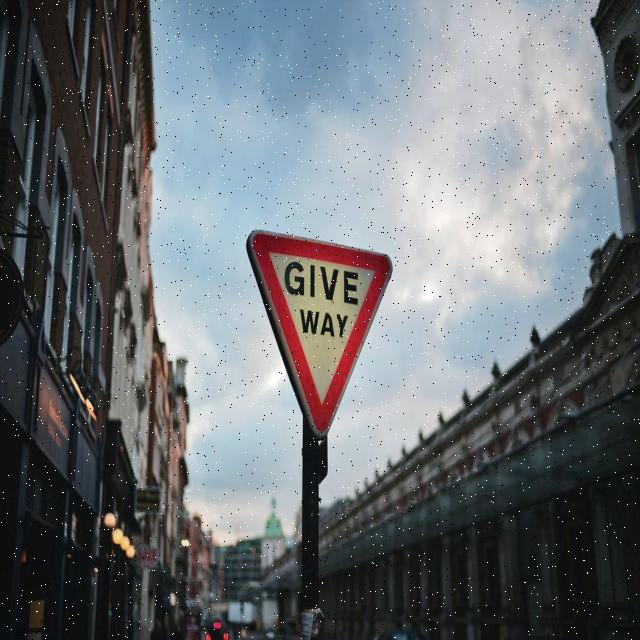giveway: (246, 220, 393, 440)
